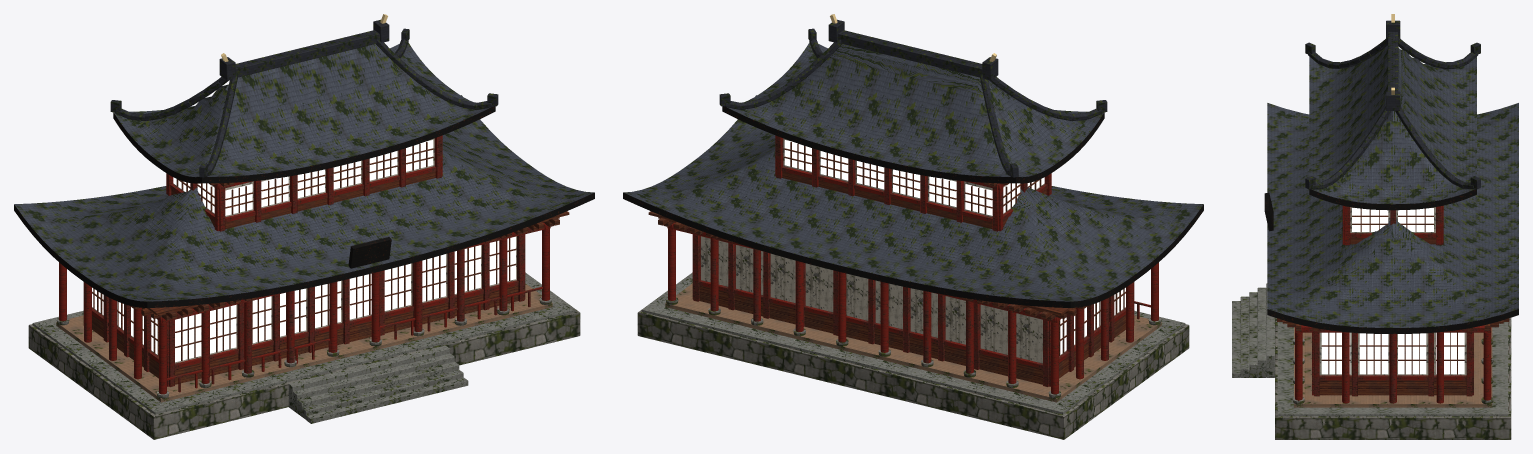
The model's file is MainHall_Boss.fbx.
The picture shows the model from 3 angles, left to right: view 1: azimuth 30°, elevation 25°; view 2: azimuth 150°, elevation 25°; view 3: azimuth 270°, elevation 25°; orthographic projection. The views are drawn at different scales.
Visible parts, largest first — view 1: MainHall_Boss_LOD0; view 2: MainHall_Boss_LOD0; view 3: MainHall_Boss_LOD0.
Part boxes in pixels (<box>): MainHall_Boss_LOD0: <box>14,14,594,439</box>; MainHall_Boss_LOD0: <box>623,14,1203,439</box>; MainHall_Boss_LOD0: <box>1232,14,1518,439</box>.
Size of what is drawn, in the model's own units: 25.6 by 16.84 by 15.05.
